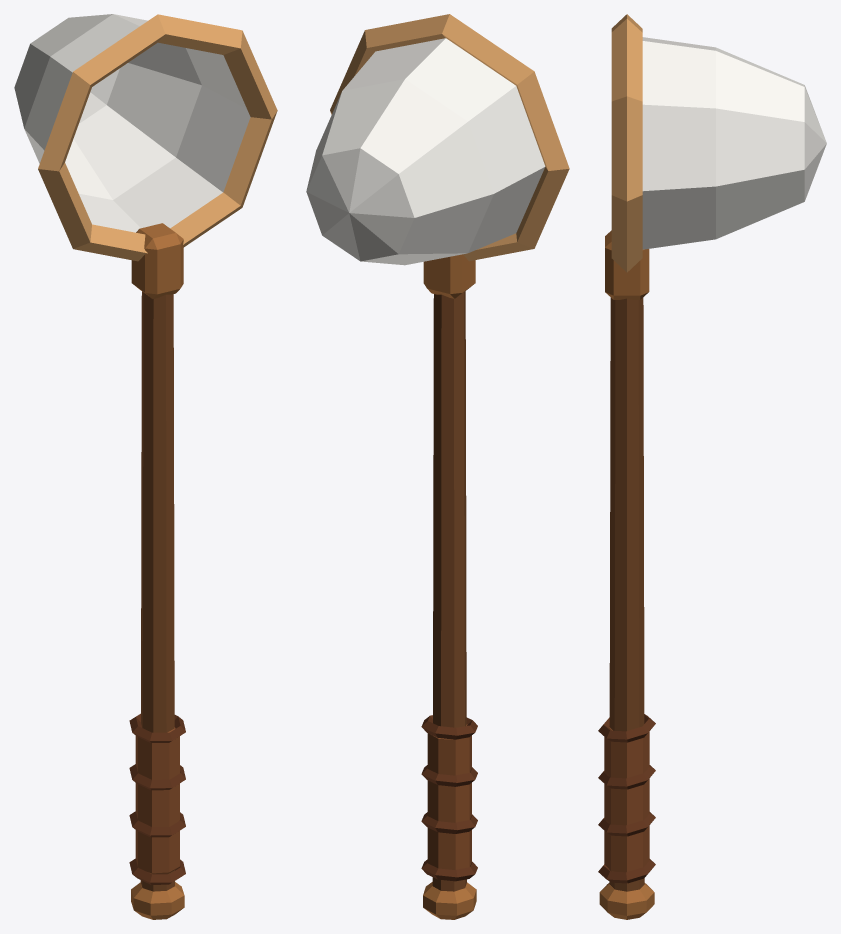
The model's file is WoodBugNet.fbx.
The picture shows the model from 3 angles, left to right: view 1: azimuth 30°, elevation 25°; view 2: azimuth 150°, elevation 25°; view 3: azimuth 270°, elevation 25°; orthographic projection.
Parts seen in each view (by area): view 1: WoodBugNet; view 2: WoodBugNet; view 3: WoodBugNet.
Boxes of the visible parts, x1,y1,x2,y2 form: WoodBugNet: (14,14,277,919); WoodBugNet: (306,14,569,919); WoodBugNet: (598,14,826,919).
Size of the model in its own units: 1.24 by 4.44 by 1.03.
1 material, 1 textured.
